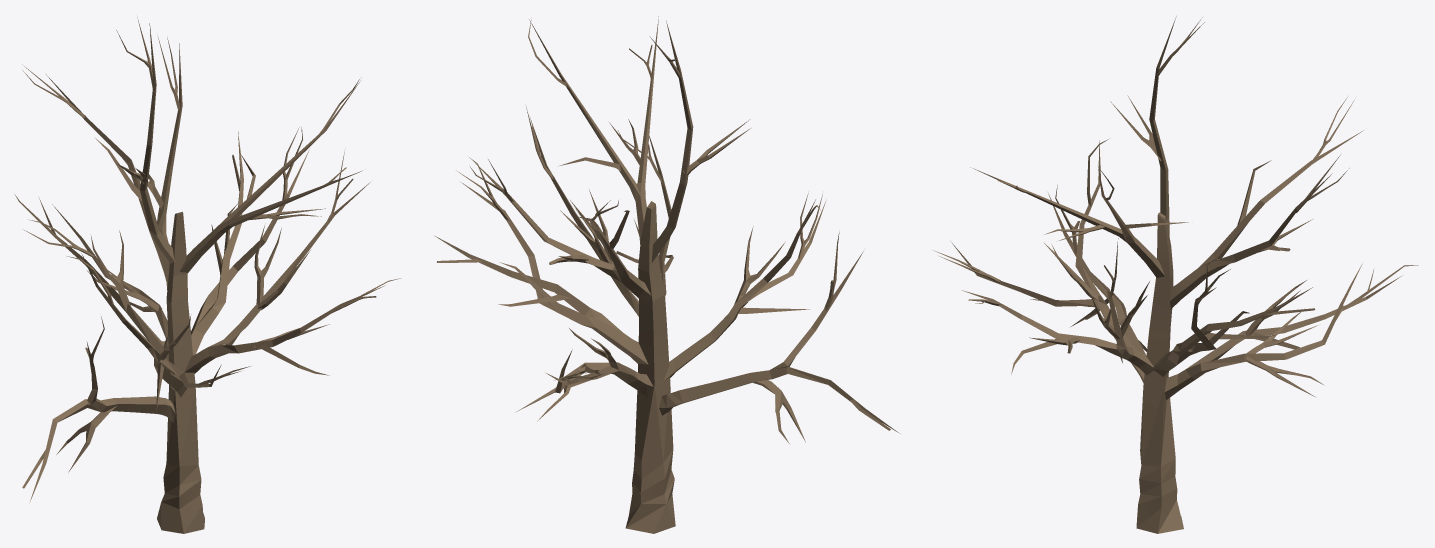
Rendered from tree_bare_a_15.FBX.
3 renders of one model, left to right at view 1: azimuth 30°, elevation 25°; view 2: azimuth 150°, elevation 25°; view 3: azimuth 270°, elevation 25°, orthographic. The views are drawn at different scales.
Visible parts, largest first — view 1: tree_bare_a_15; view 2: tree_bare_a_15; view 3: tree_bare_a_15.
Boxes of the visible parts, left/top/right/bottom form: tree_bare_a_15: left=15, top=17, right=401, bottom=533; tree_bare_a_15: left=435, top=16, right=899, bottom=533; tree_bare_a_15: left=933, top=16, right=1418, bottom=533.
Bounding box in the file's own units: 4.75 × 6.4 × 5.71.
